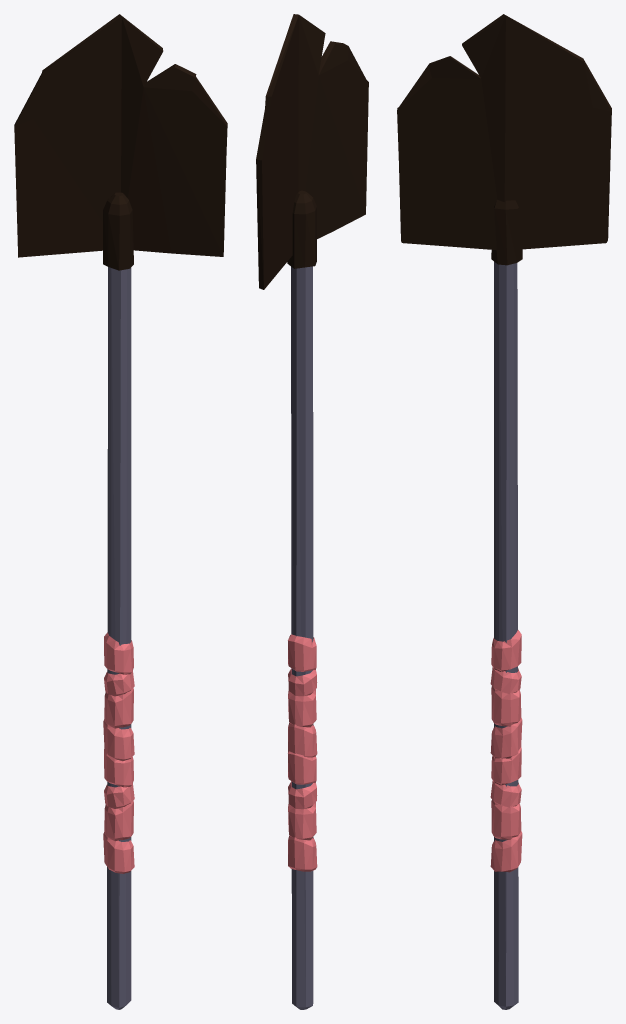
File: SFFA_Shovel.fbx
3 renders of one model, left to right at view 1: azimuth 90°, elevation 25°; view 2: azimuth 150°, elevation 25°; view 3: azimuth 270°, elevation 25°, orthographic.
Parts seen in each view (by area): view 1: SFFA_Shovel; view 2: SFFA_Shovel; view 3: SFFA_Shovel.
Part boxes in pixels (x1,y1,x2,y2): SFFA_Shovel: (14, 14, 227, 1009); SFFA_Shovel: (256, 14, 368, 1009); SFFA_Shovel: (397, 14, 611, 1009).
Bounding box in the file's own units: 3.82 × 142 × 27.68.
